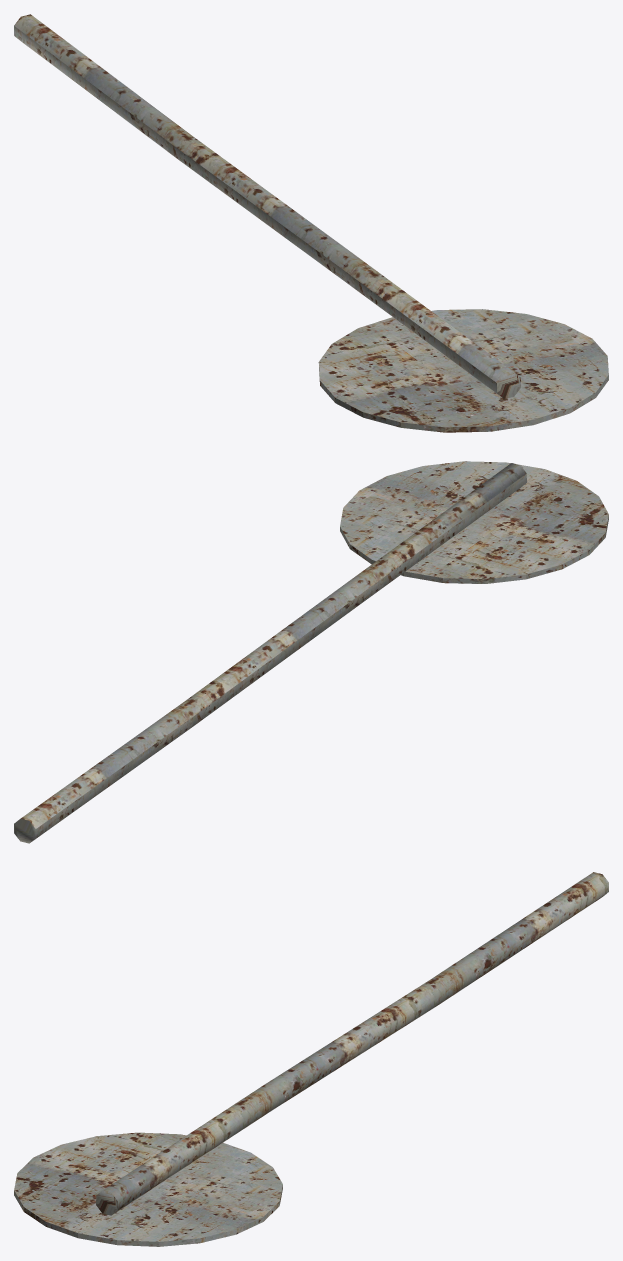
Rendered from sign_1.obj.
The picture shows the model from 3 angles, top to bottom: view 1: azimuth 30°, elevation 25°; view 2: azimuth 150°, elevation 25°; view 3: azimuth 330°, elevation 25°; orthographic projection. The views are drawn at different scales.
Parts seen in each view (by area): view 1: Cylinder05; view 2: Cylinder05; view 3: Cylinder05.
Part boxes in pixels (x1=…): Cylinder05: x1=14, y1=14, x2=608, y2=432; Cylinder05: x1=14, y1=461, x2=608, y2=843; Cylinder05: x1=14, y1=872, x2=608, y2=1246.
Bounding box in the file's own units: 1.51 × 0.2558 × 5.53.
2 materials, 2 textured.
